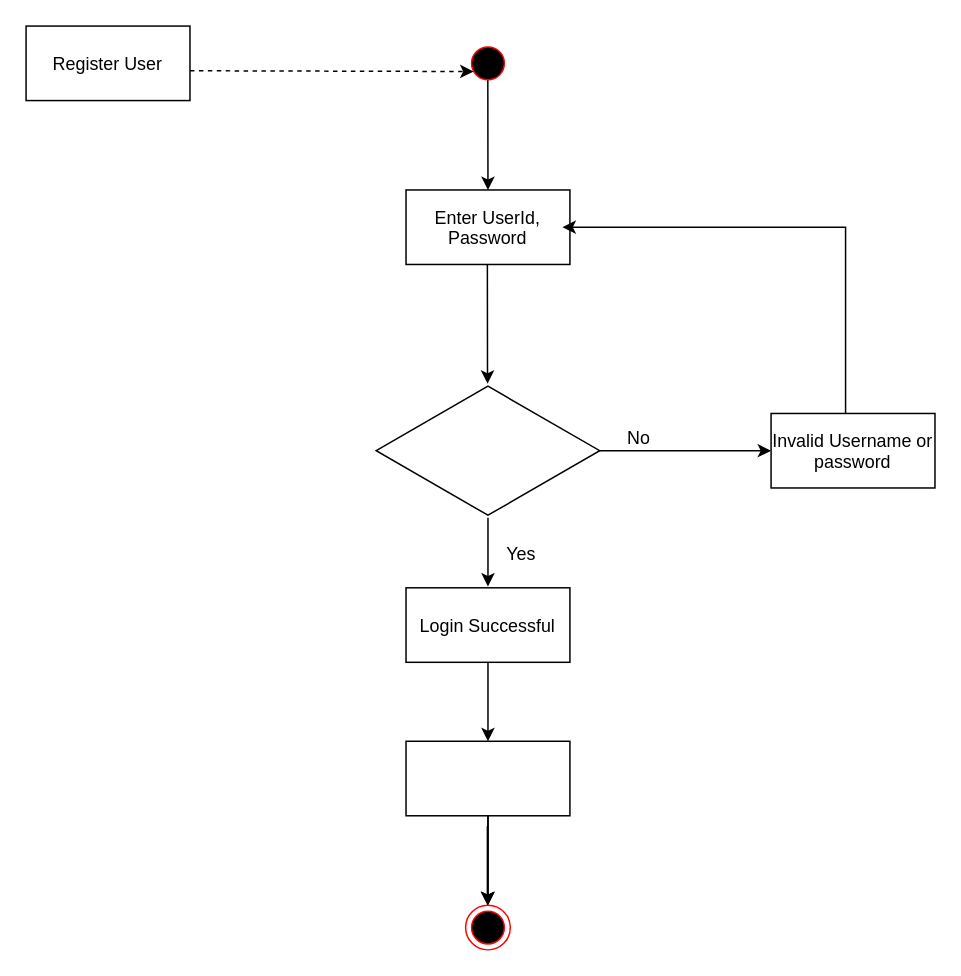
This 961x976 diagram has some shape labels left out. The shapes that lost their labels are listed below. From the top down, each one's centre as x and y in pixels, then its label:
At (487,450): "Verify Username & password".
At (487,778): "Access to System".
